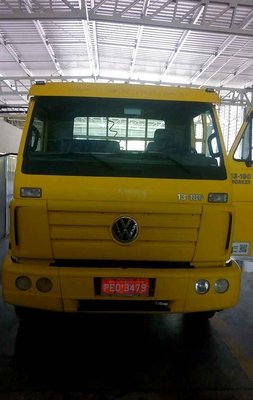Frontal Caminhao: (3, 81, 242, 316)
